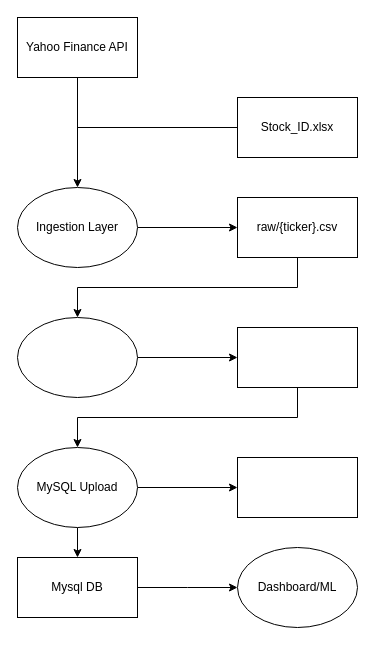
This 375x645 diagram has some shape labels left out. Here are the shapes that lost their labels. From the top down, the centre of each, then its label:
(77,357): Processing Layer
(297,357): processed/{ticker}.csv
(297,487): backup/{ticker}.csv
